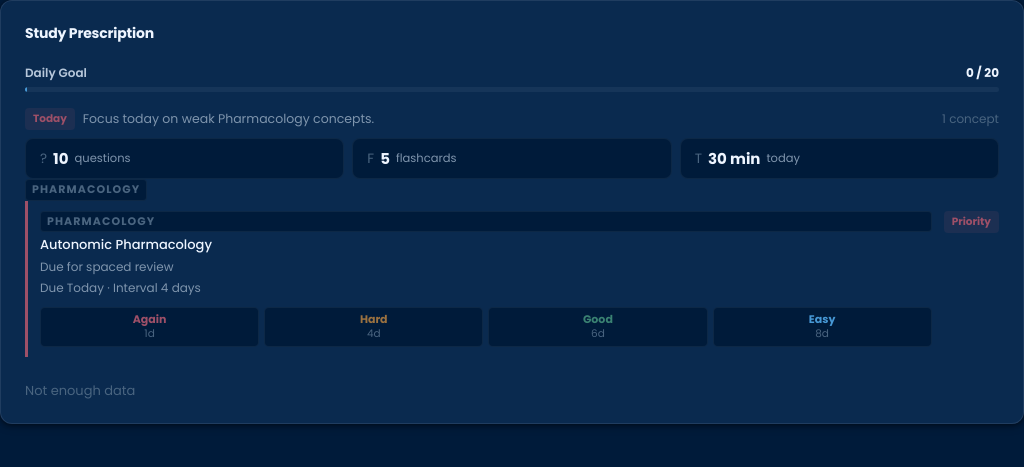
Test: StudyPrescriptionPanel — ease review buttons › keeps the concept row visible after a failed review
What coordinates should you click on to do the following:
click the button "Hard 4d"
I would click on:
 (374, 327)
Its box is [264, 307, 483, 347].
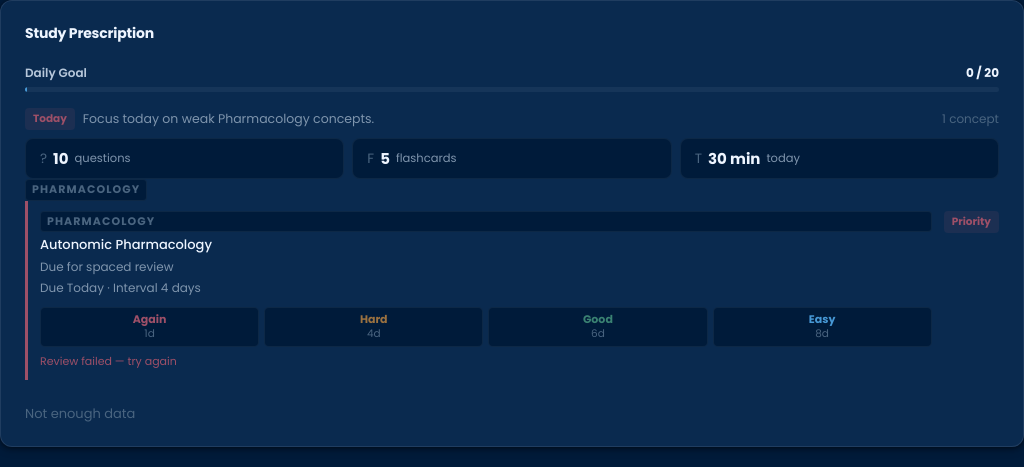
Expected: the text "Autonomic Pharmacology" is shown, [40, 235, 212, 254]
Expected: the message "Review failed — try again" is shown, [40, 353, 177, 369]
